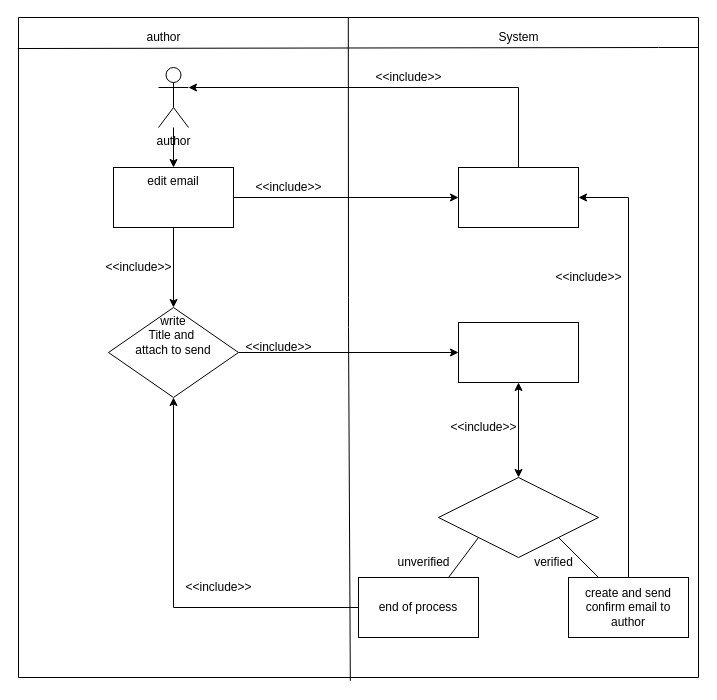
This 717x700 diagram has some shape labels left out. Each missing label, with the box of its shape:
check in database: (438, 476, 598, 558)
save in database: (458, 322, 578, 382)
show author email (HTML): (458, 166, 578, 228)
